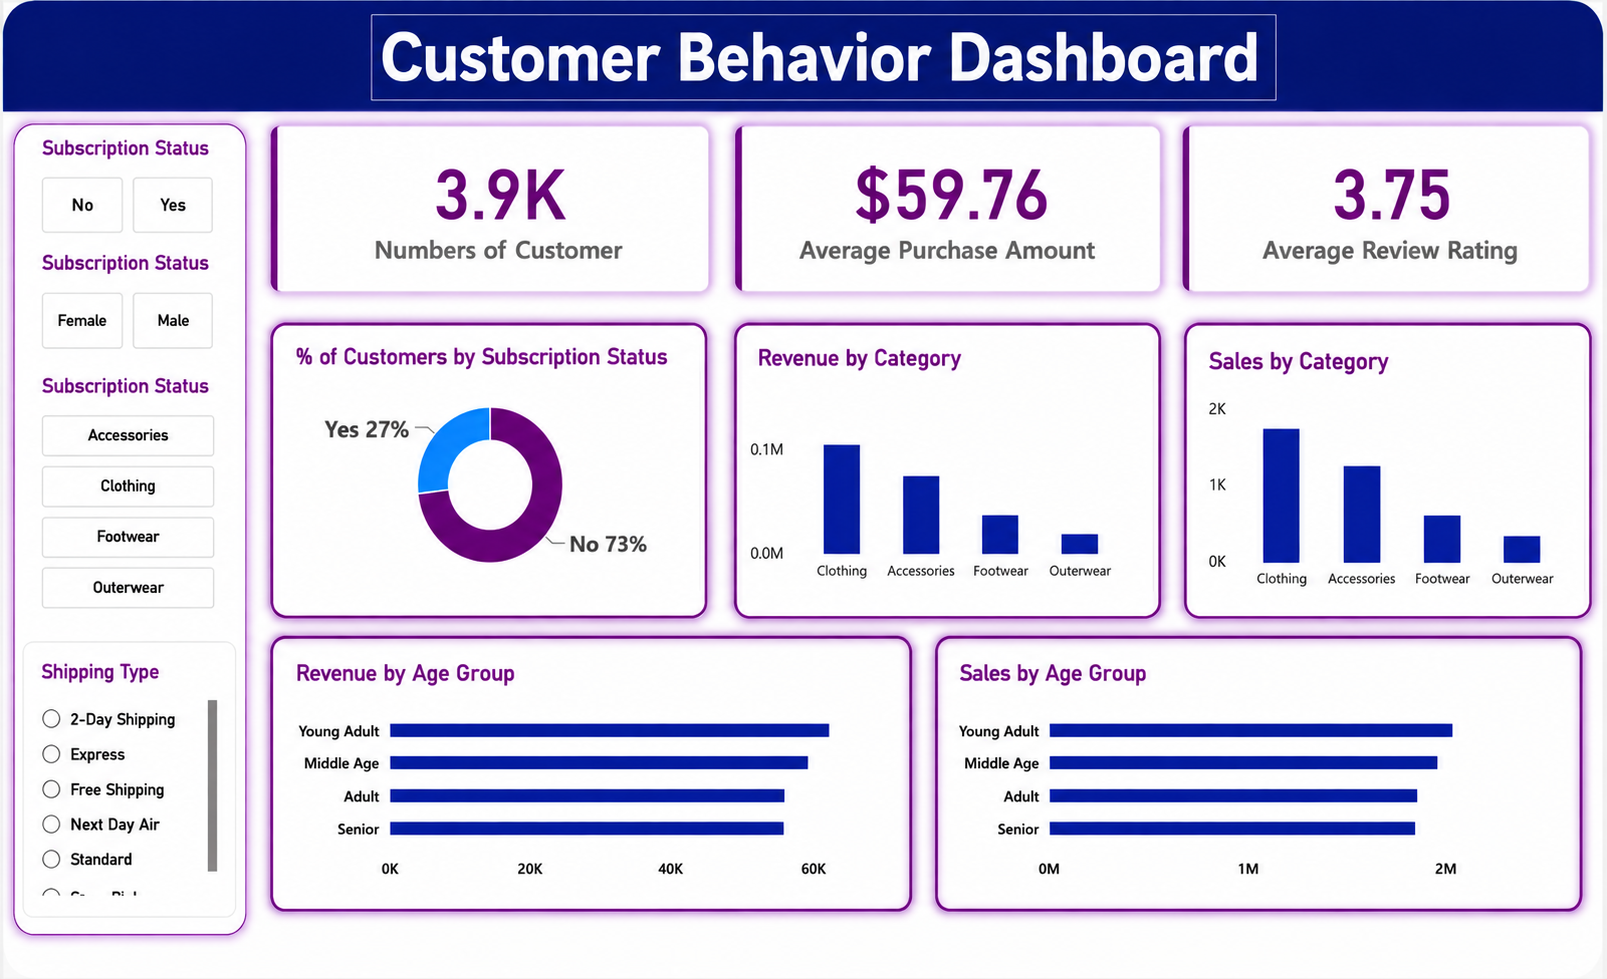

The page's visual inventory and layout, read from the dashboard file:
{"tool":"powerbi","page":{"name":"Page 1","canvas":[1500,820],"ordinal":0},"visuals":[{"type":"cardVisual","fields":{"Data":["customer_behavior customers.Numbers of Customer","customer_behavior customers.Average Purchase Amount","customer_behavior customers.Average Review Rating"]},"box":[226.2,105,1273.8,162.5],"z":0},{"type":"shape","box":[0,0,1500,105],"z":1},{"type":"textbox","box":[390,15,780.3,77.3],"z":2},{"type":"shape","box":[226.2,278.8,411.2,270],"z":3},{"type":"donutChart","title":"% of Customers by Subscription Status","fields":{"Category":["customer_behavior customers.subscription_status"],"Y":["customer_behavior customers.Numbers of Customer"]},"box":[242.5,290,377.5,237.5],"z":4},{"type":"shape","box":[658.8,278.8,411.2,270],"z":5},{"type":"shape","box":[1088.6,280,411.2,270],"z":6},{"type":"clusteredColumnChart","title":"Revenue by Category","fields":{"Category":["customer_behavior customers.category"],"Y":["Sum(customer_behavior customers.purchase_amount)"]},"box":[671.4,290,382.9,237.1],"z":7},{"type":"clusteredColumnChart","title":"Sales by Category","fields":{"Category":["customer_behavior customers.category"],"Y":["CountNonNull(customer_behavior customers.customer_id)"]},"box":[1102.9,297.1,382.9,237.1],"z":8},{"type":"shape","box":[0,105.7,224.3,714.3],"z":9},{"type":"advancedSlicerVisual","title":"Subscription Status","fields":{"Values":["customer_behavior customers.subscription_status"]},"box":[37.1,124.3,151.4,85.7],"z":10},{"type":"advancedSlicerVisual","title":"Subscription Status","fields":{"Values":["customer_behavior customers.gender"]},"box":[37.1,224.3,151.4,85.7],"z":11},{"type":"advancedSlicerVisual","title":"Subscription Status","fields":{"Values":["customer_behavior customers.category"]},"box":[37.1,332.9,151.4,205.7],"z":12},{"type":"listSlicer","title":"Shipping Type","fields":{"Values":["customer_behavior customers.shipping_type"]},"box":[18.6,565.7,188.6,230],"z":13},{"type":"clusteredBarChart","title":"Revenue by Age Group","fields":{"Category":["customer_behavior customers.age_group"],"Y":["Sum(customer_behavior customers.purchase_amount)"]},"box":[242.9,565.7,590,217.1],"z":14},{"type":"shape","box":[225.7,548.6,622.9,234.3],"z":15},{"type":"clusteredBarChart","title":"Sales by Age Group","fields":{"Category":["customer_behavior customers.age_group"],"Y":["Sum(customer_behavior customers.customer_id)"]},"box":[874.3,562.9,590,217.1],"z":16},{"type":"shape","box":[858.6,548.6,622.9,234.3],"z":17}]}

Visuals, with their boxes on the page's 1500x820 design canvas (x1, y1, x2, y2). These are canvas units, not pixel positions in the 1607x979 screenshot, which may show the page scaled, cropped or inside an application window:
cardVisual - customer_behavior customers.Numbers of Customer x customer_behavior customers.Average Purchase Amount: (226,105,1500,268)
shape: (0,0,1500,105)
textbox: (390,15,1170,92)
shape: (226,279,637,549)
"% of Customers by Subscription Status" donutChart: (242,290,620,528)
shape: (659,279,1070,549)
shape: (1089,280,1500,550)
"Revenue by Category" clusteredColumnChart: (671,290,1054,527)
"Sales by Category" clusteredColumnChart: (1103,297,1486,534)
shape: (0,106,224,820)
"Subscription Status" advancedSlicerVisual: (37,124,188,210)
"Subscription Status" advancedSlicerVisual: (37,224,188,310)
"Subscription Status" advancedSlicerVisual: (37,333,188,539)
"Shipping Type" listSlicer: (19,566,207,796)
"Revenue by Age Group" clusteredBarChart: (243,566,833,783)
shape: (226,549,849,783)
"Sales by Age Group" clusteredBarChart: (874,563,1464,780)
shape: (859,549,1482,783)
